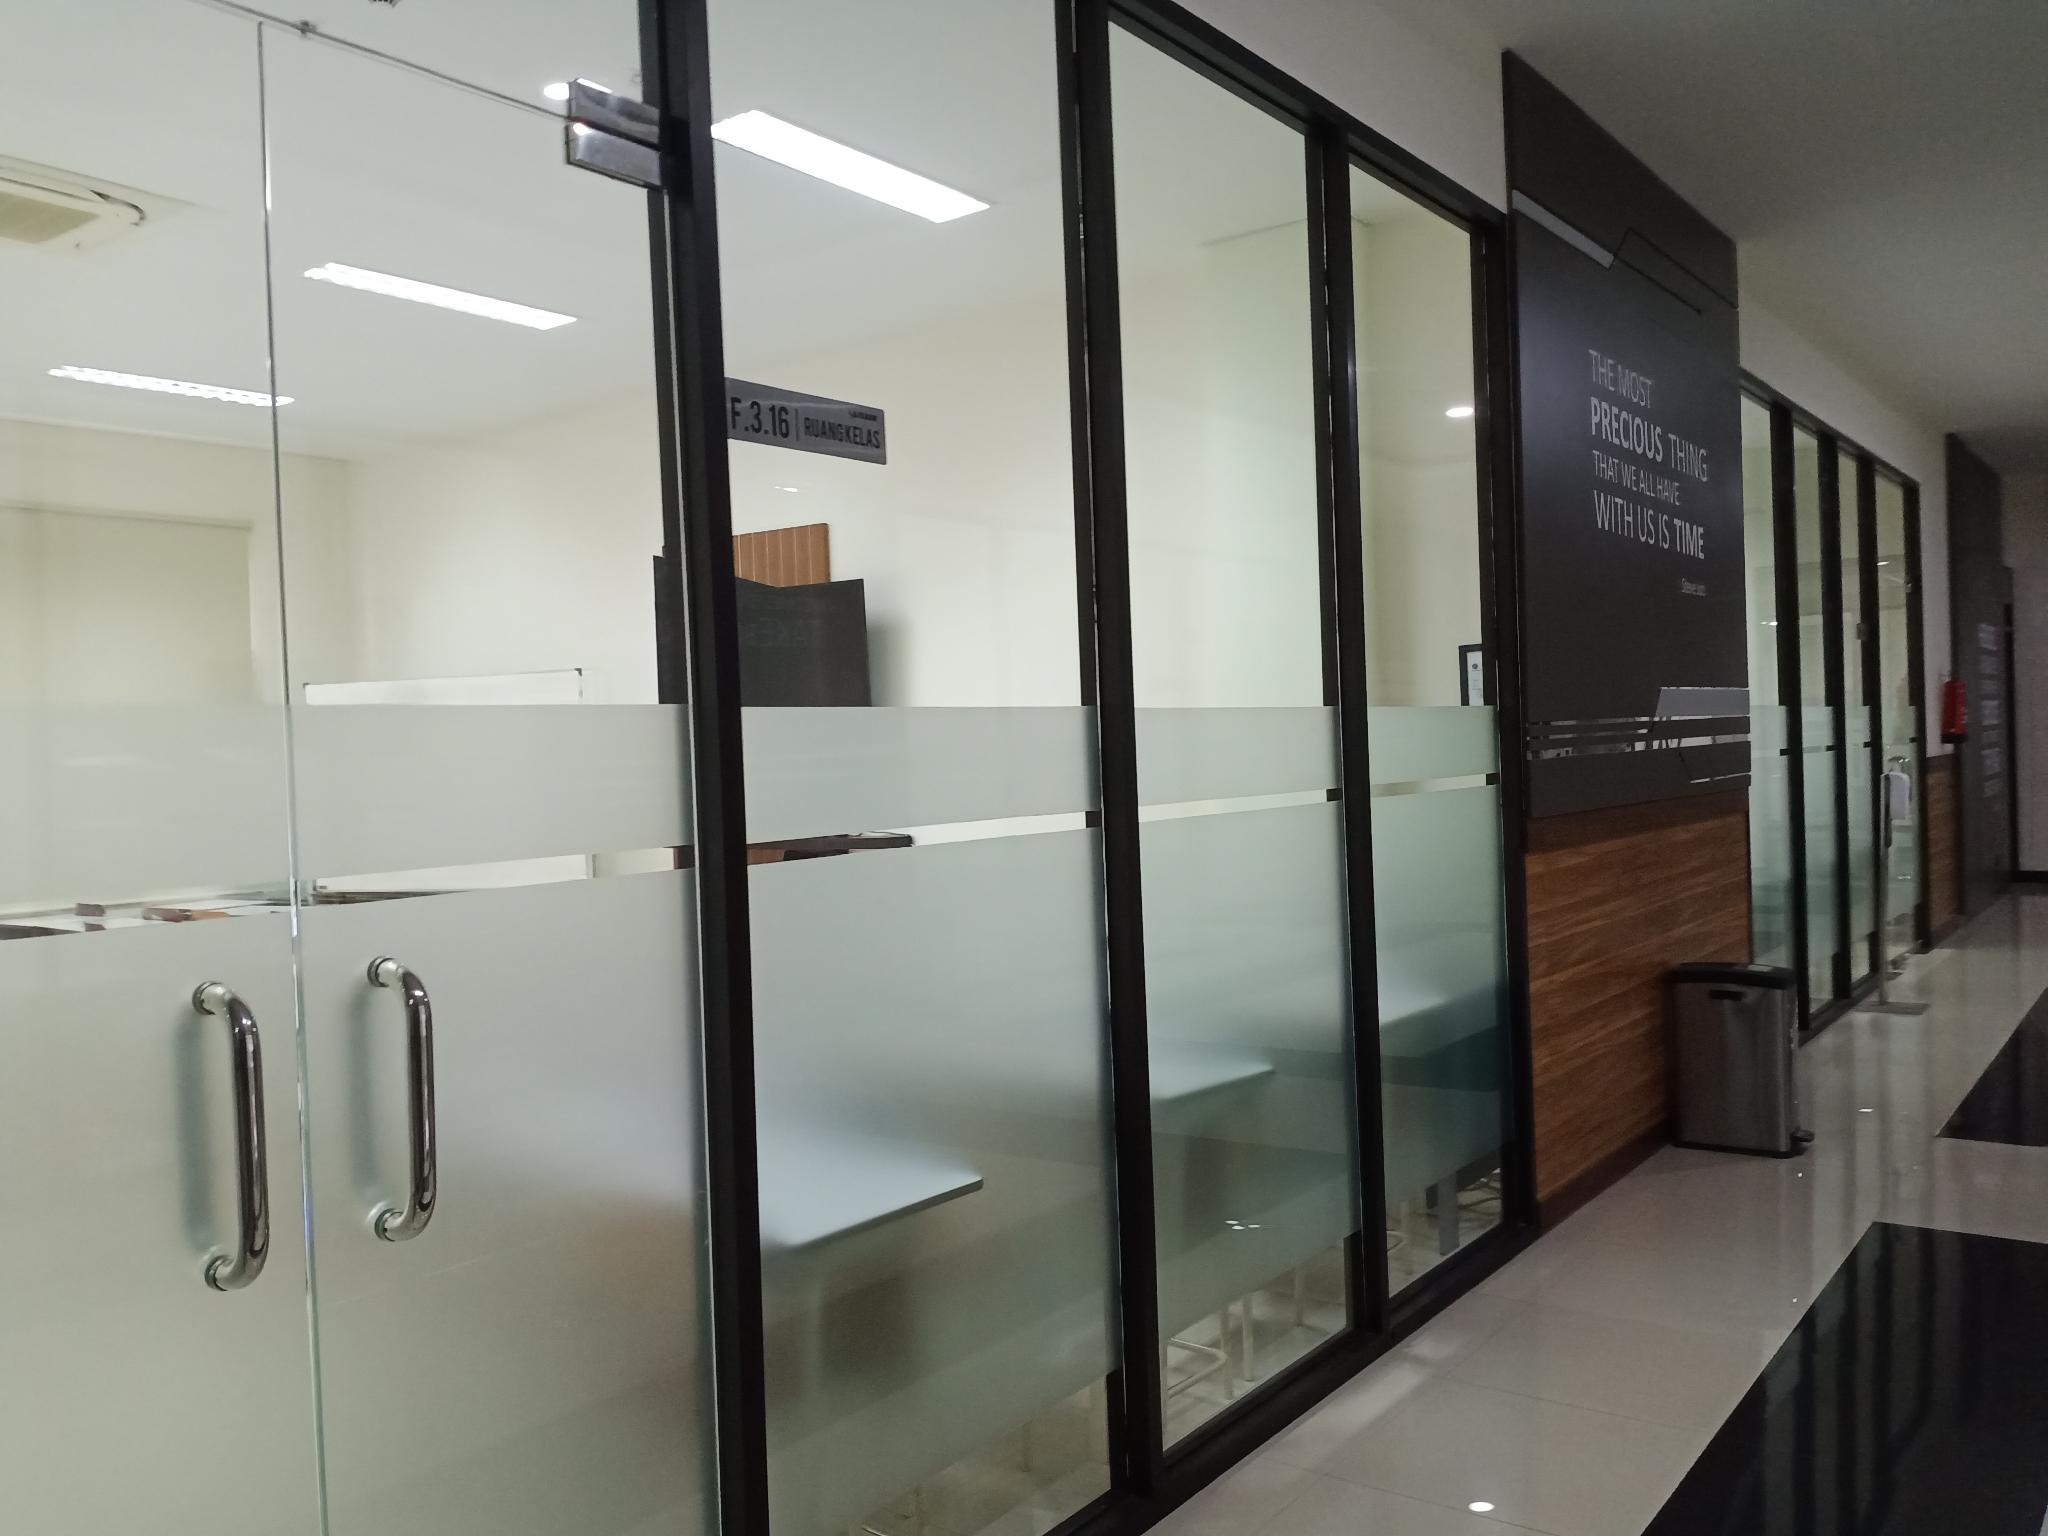plate: (724, 376, 887, 466)
